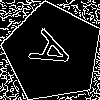A: (28, 28, 84, 80)
